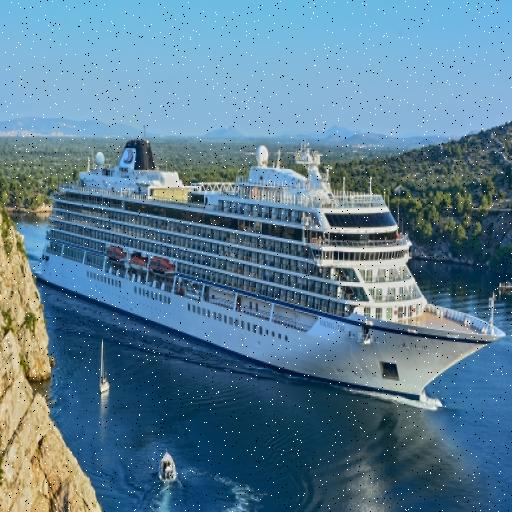cruises: (30, 131, 509, 418)
